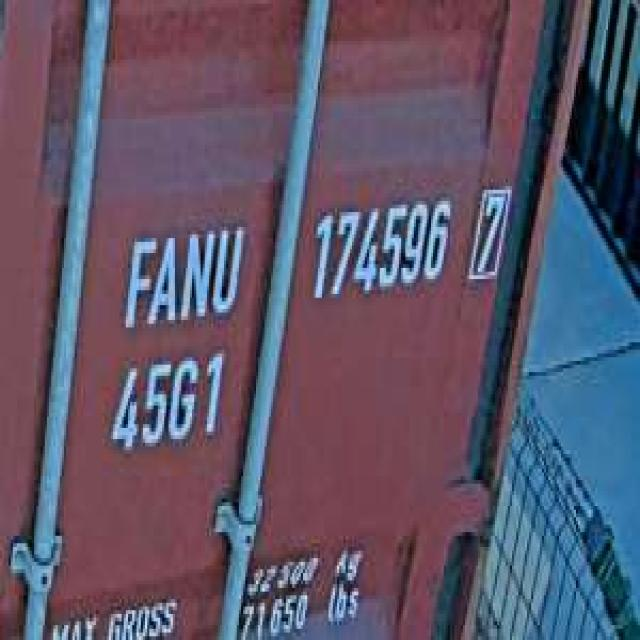dv: (465, 175, 512, 294)
owner: (117, 212, 245, 331)
serial: (305, 186, 452, 309)
size: (105, 346, 226, 461)
